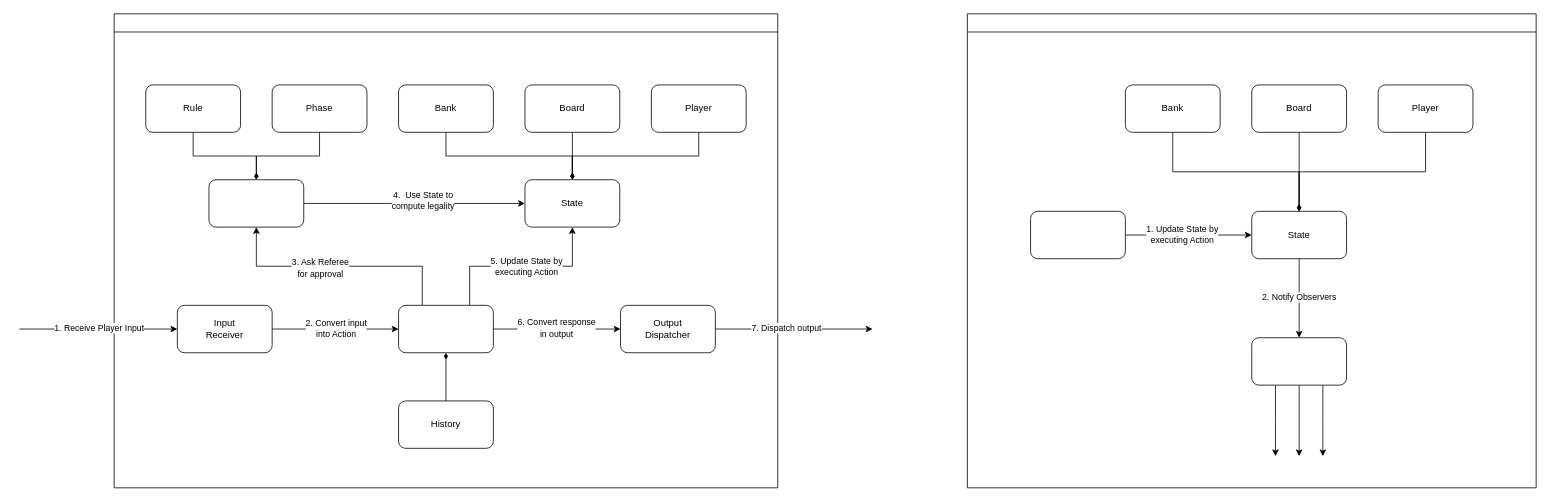
The diagram is 1550 pixels wide and 502 high, and some of its shapes have lost their labels. Here are the shapes that lost their labels. From the top down, the box of each, then its label:
(208, 179, 304, 227): Referee
(113, 13, 778, 488): KtanCore - Input Processing
(1030, 211, 1125, 259): ActionProcessor
(967, 13, 1536, 488): KtanCore - Debug Visualizer
(398, 305, 493, 353): Action Processor
(1251, 337, 1347, 385): Observers
